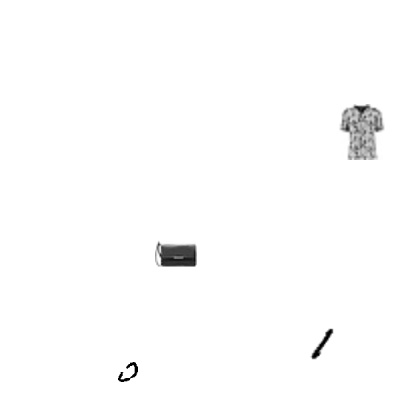3: (65, 121, 149, 205)
7: (28, 225, 140, 337), (232, 353, 246, 367)
Coat: (204, 98, 232, 126)
Sandal: (213, 157, 297, 241), (337, 129, 359, 151)
Sneaker: (294, 129, 336, 171)
